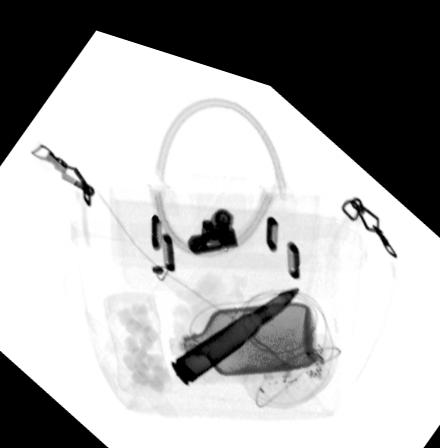Bullet: (171, 267, 300, 374)
